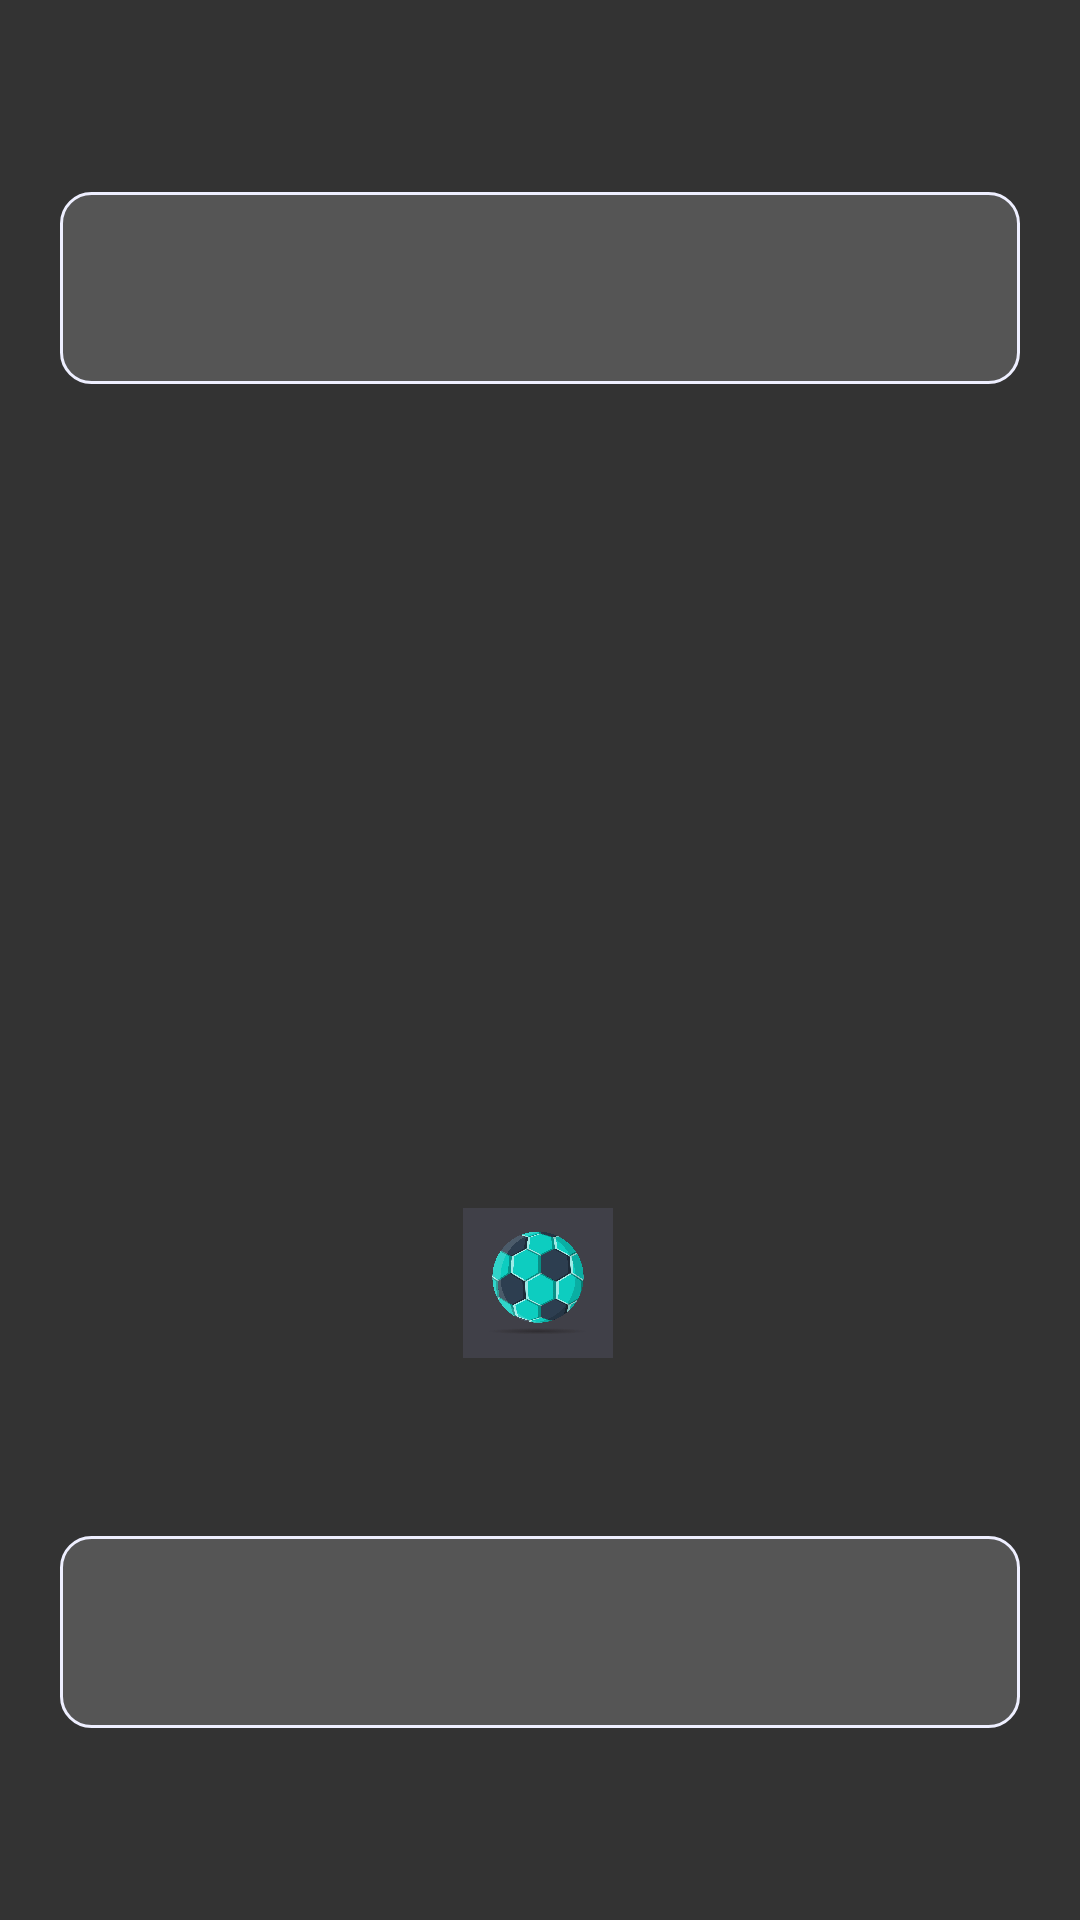

Screen size 1080px x 1920px. Icon name, then its box in pixels as (x1, y1, x2, y2):
ball: (492, 1231, 584, 1323)
